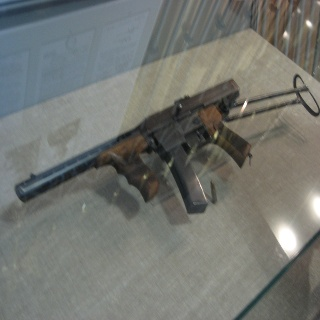rifle: (14, 77, 320, 214)
